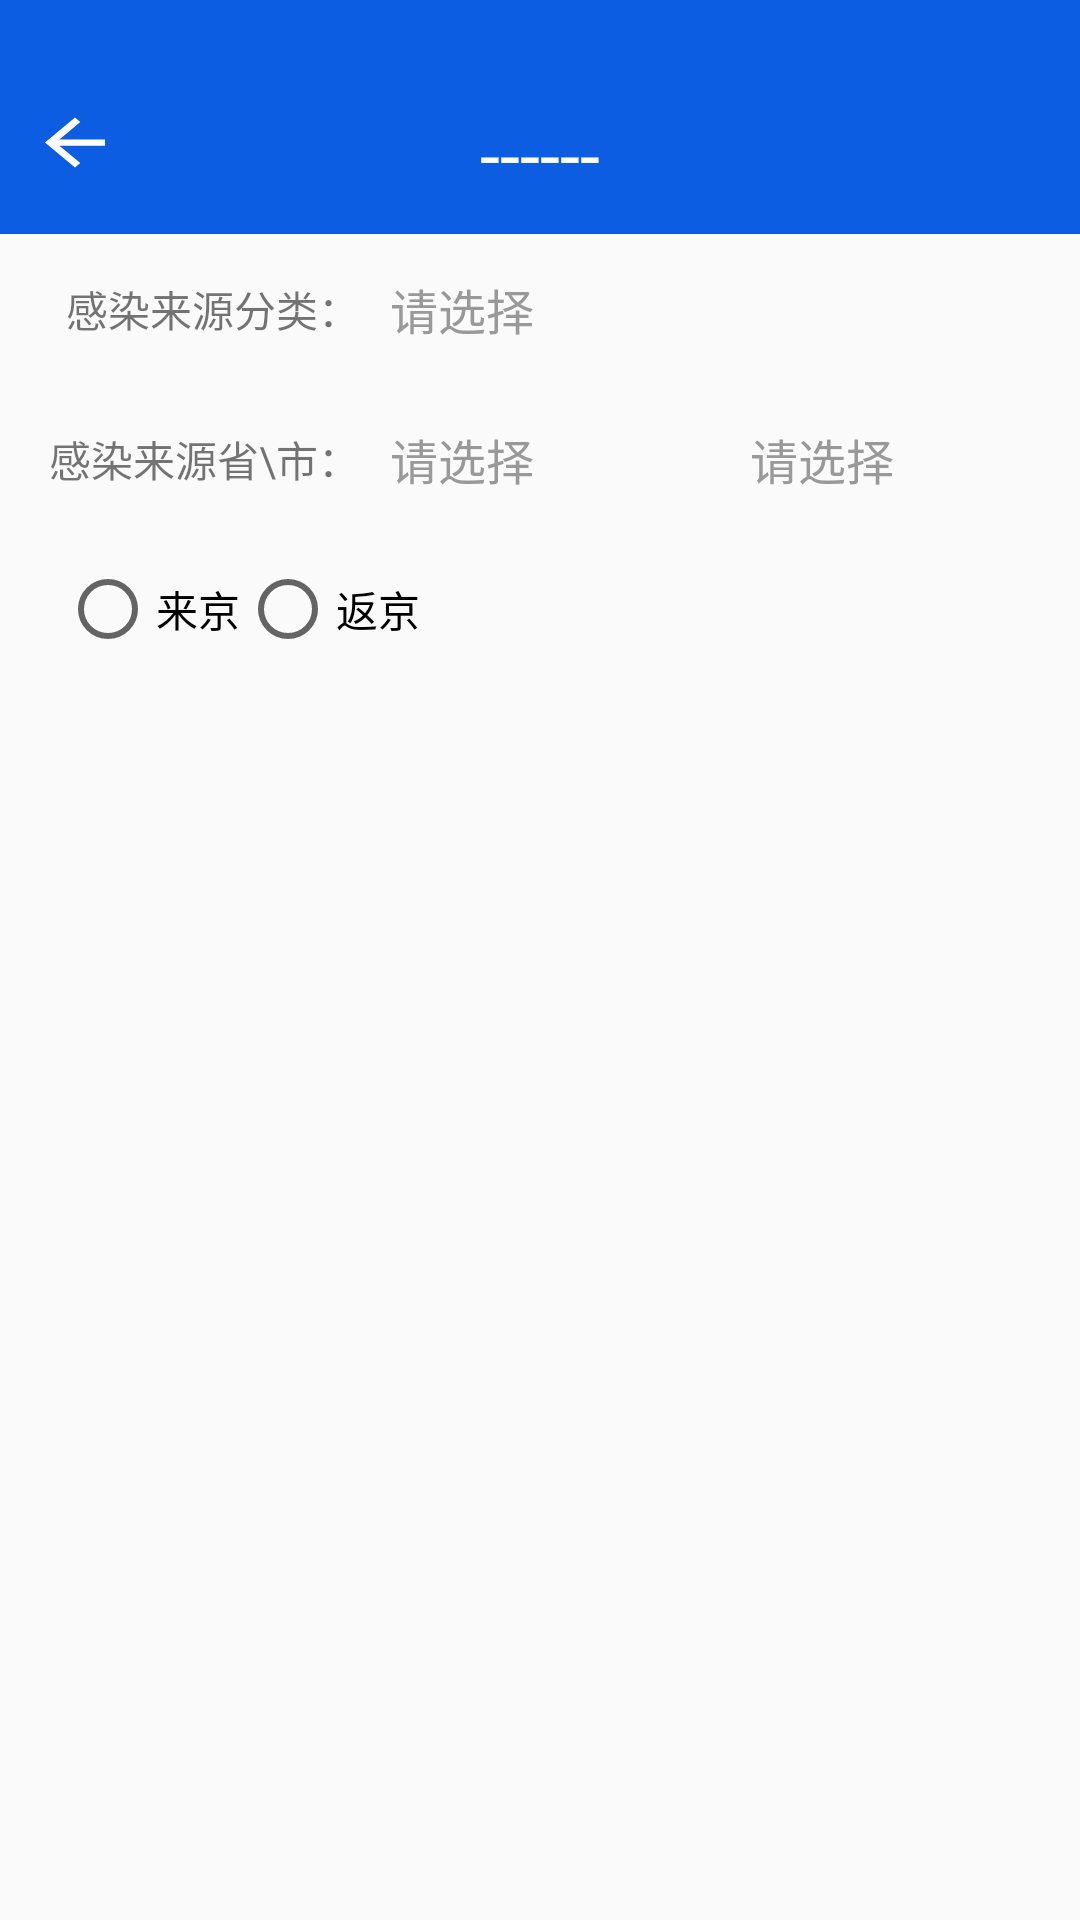

Where icons sit on this 1080px x 1920px app screen, as (x1, y1, x2, y2):
arrow back: (45, 117, 105, 168)
